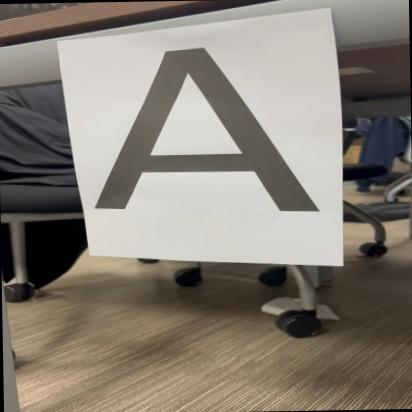seat: (74, 40, 326, 234)
